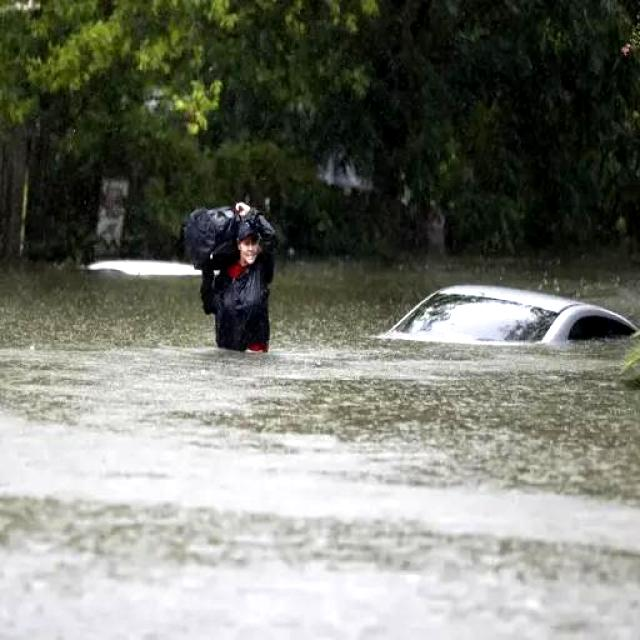civilian: (157, 178, 301, 396)
